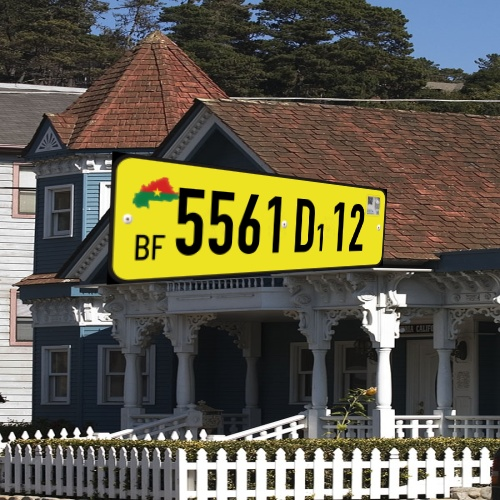plate: (101, 137, 391, 306)
